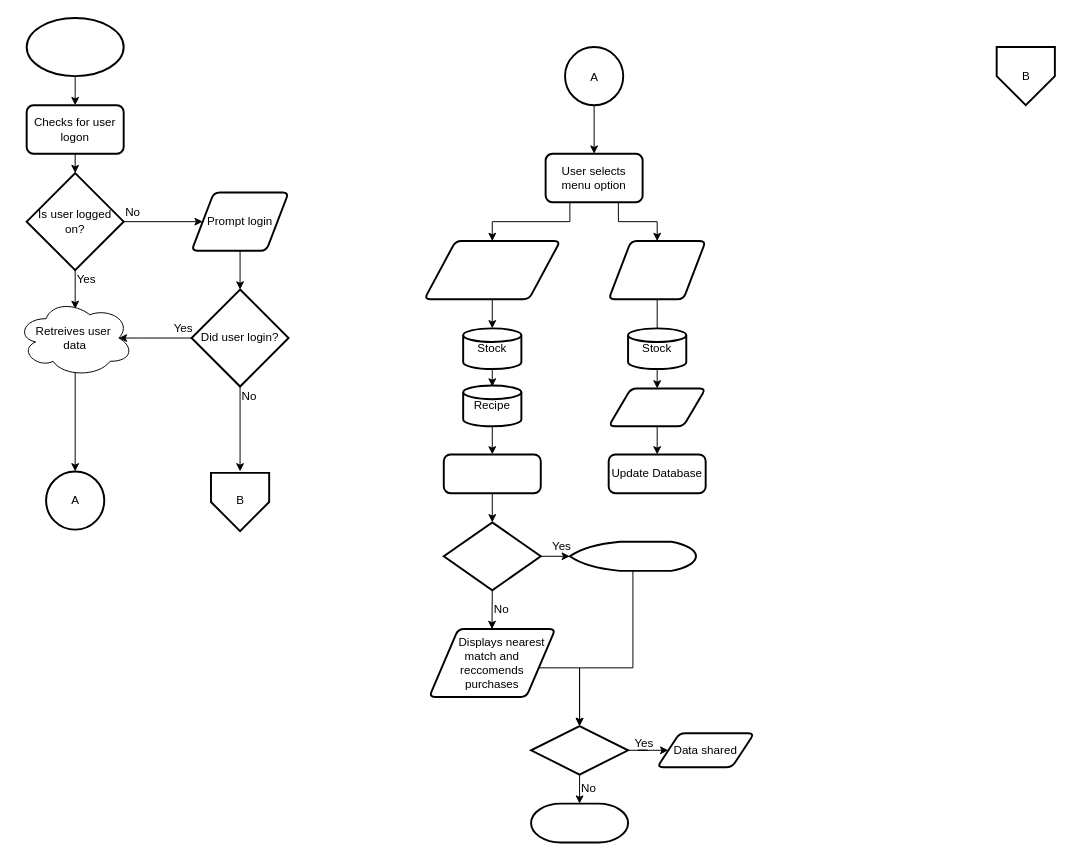
Some shapes in this 1073 by 859 pixel diagram are drawn without their labels. The shapes that lost their labels are listed below. From the top down, each one's box as (x1, y1, x2, y2) in pixels, then its label:
(25, 16, 124, 77): App opened
(423, 240, 561, 300): Menu - Recipes
(607, 240, 706, 300): Menu - Stock
(607, 387, 706, 427): Add/Remove item
(442, 453, 541, 494): Compares results
(442, 521, 541, 591): Is there a match?
(568, 540, 696, 571): Displays recipe
(530, 725, 629, 775): Share?
